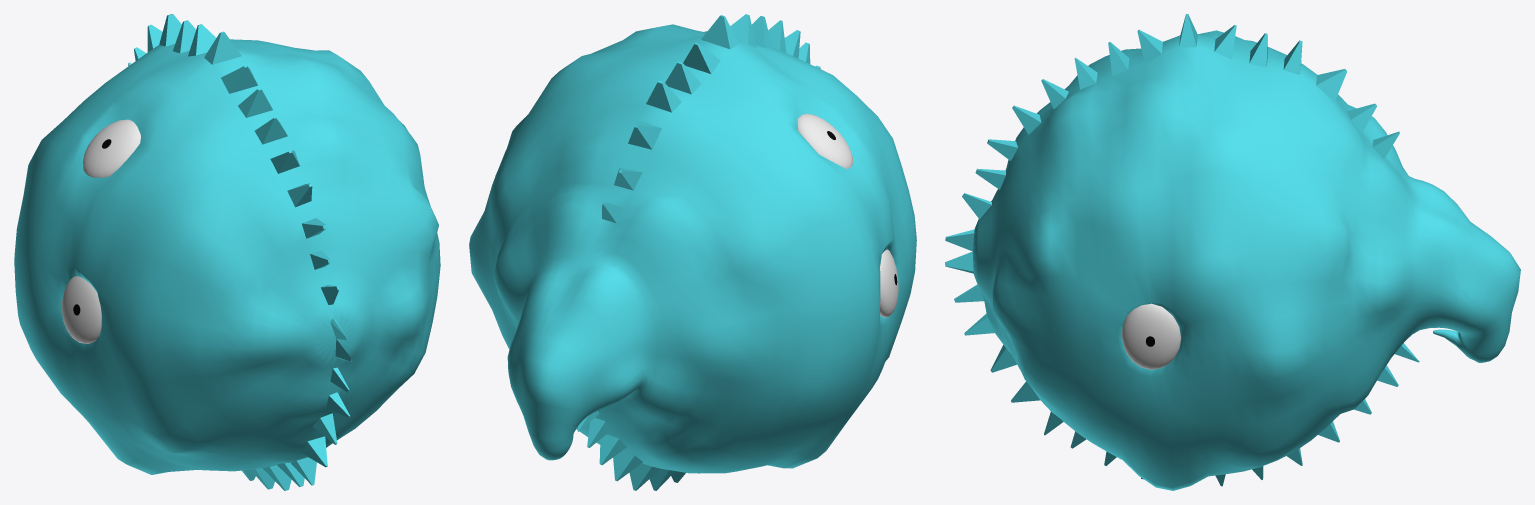
File: Blue Germ.fbx
The picture shows the model from 3 angles, left to right: view 1: azimuth 30°, elevation 25°; view 2: azimuth 150°, elevation 25°; view 3: azimuth 270°, elevation 25°; orthographic projection.
Visible parts, largest first — view 1: pSphere86; view 2: pSphere86; view 3: pSphere86.
Boxes of the visible parts, x1,y1,x2,y2 form: pSphere86: (14,14,440,490); pSphere86: (469,14,916,490); pSphere86: (945,14,1520,490).
Size of the model in its own units: 1.94 by 2.24 by 2.56.
